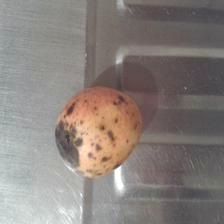Mango Overripe: (51, 82, 148, 176)
